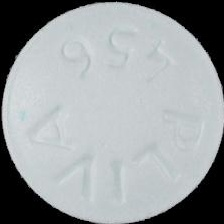10544-559: (0, 0, 224, 224)
